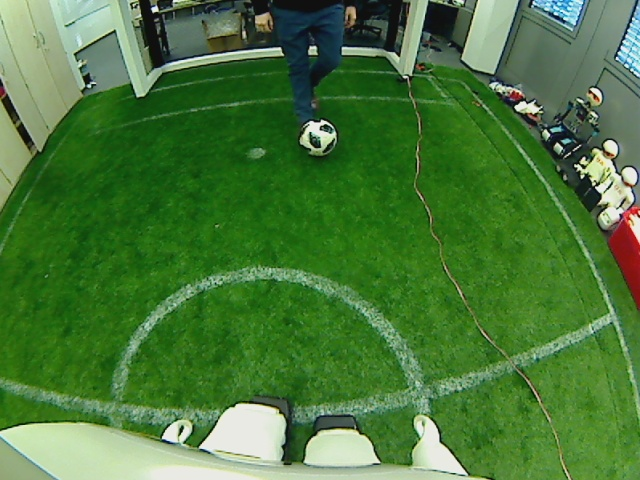ball: (298, 119, 336, 154)
